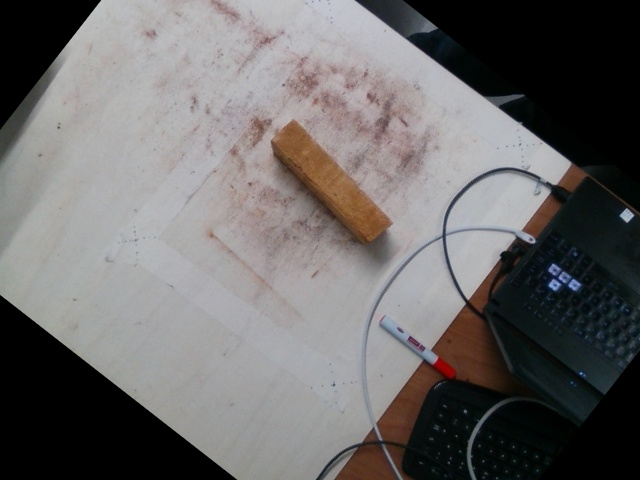brick-side: (273, 120, 388, 240)
